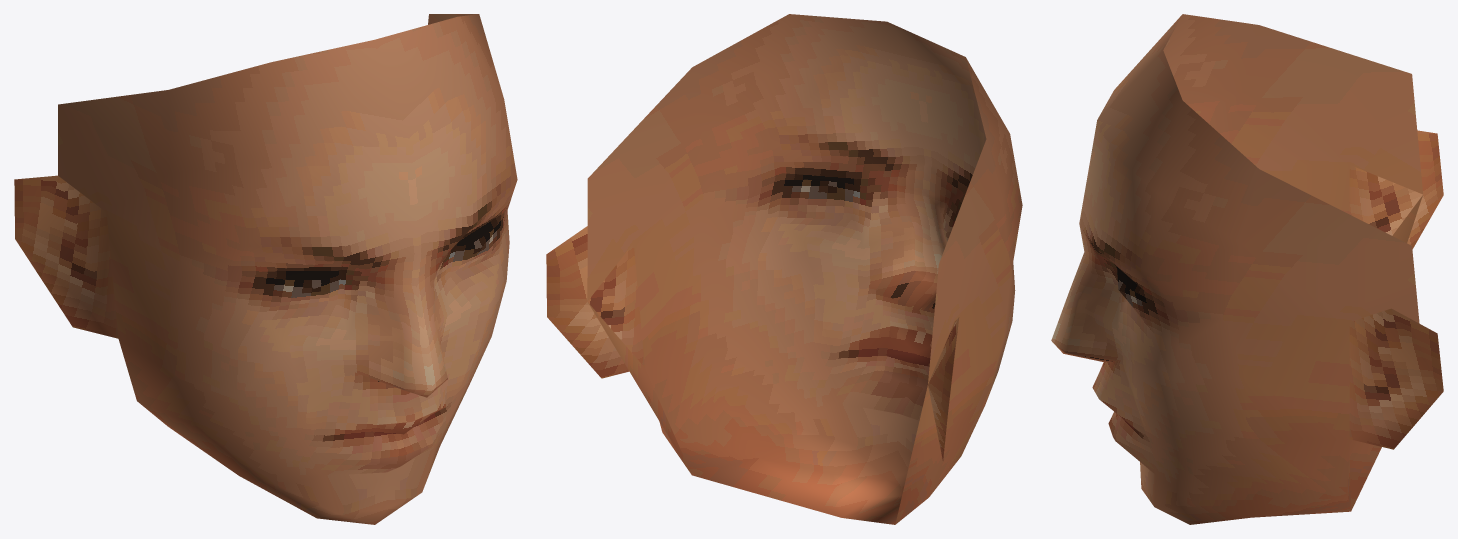
3 renders of one model, left to right at view 1: azimuth 30°, elevation 25°; view 2: azimuth 150°, elevation 25°; view 3: azimuth 270°, elevation 25°, orthographic. The views are drawn at different scales.
Size of the model in its own units: 17.18 by 18.67 by 14.26.
1 material, 1 textured.
